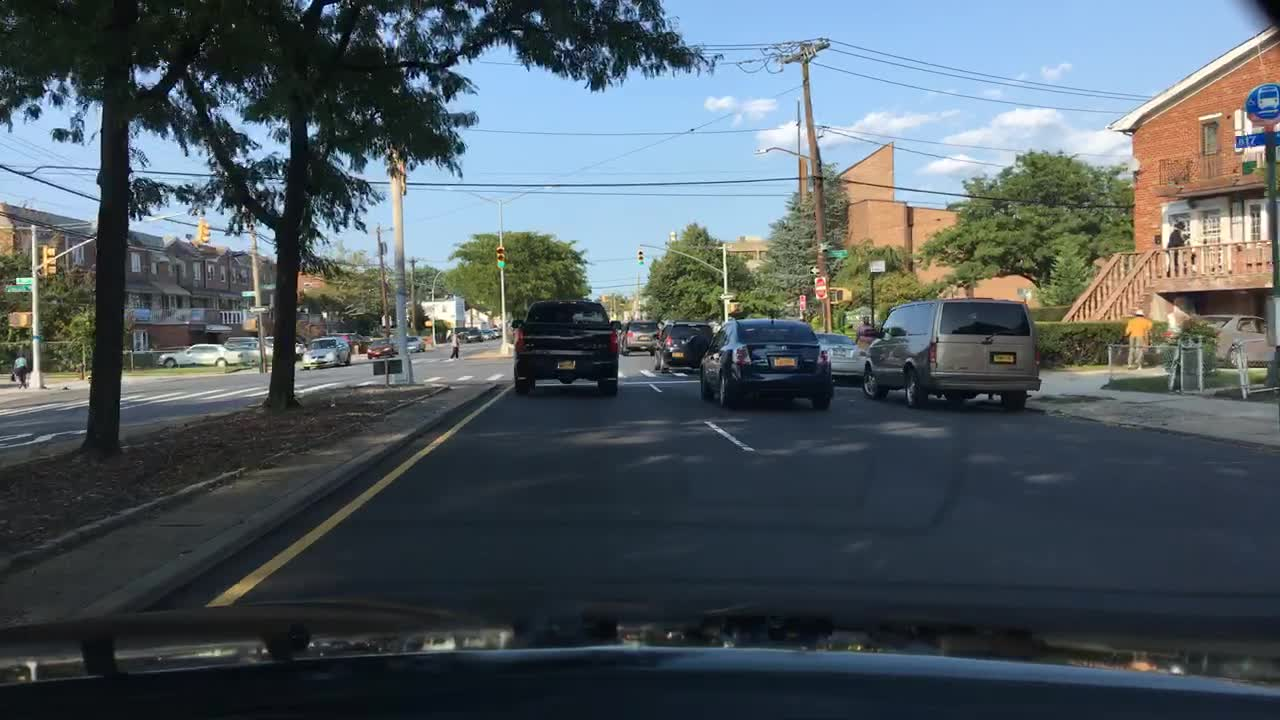car: (871, 294, 1040, 409), (699, 316, 834, 411), (509, 296, 619, 391), (1174, 310, 1280, 368), (811, 330, 874, 383), (654, 321, 708, 370), (152, 340, 244, 368), (300, 334, 355, 365), (226, 333, 278, 360), (625, 318, 660, 352), (264, 334, 307, 356), (363, 337, 398, 357), (402, 334, 429, 350), (462, 325, 481, 342), (614, 317, 623, 349), (479, 327, 496, 342), (490, 323, 504, 337)
person: (1160, 218, 1187, 277), (1124, 309, 1151, 364), (449, 324, 461, 361), (14, 353, 27, 386)
traffic light: (43, 244, 58, 277), (494, 243, 505, 272), (831, 287, 852, 300), (200, 221, 213, 241), (18, 310, 34, 326), (637, 247, 646, 269), (9, 310, 20, 326)
traffic sign: (1243, 83, 1280, 128), (1234, 135, 1280, 149), (811, 280, 829, 300), (828, 249, 857, 260), (249, 306, 272, 315), (806, 264, 828, 272), (869, 261, 884, 272), (241, 290, 259, 298), (800, 294, 809, 310), (9, 287, 34, 292), (18, 277, 34, 284)
